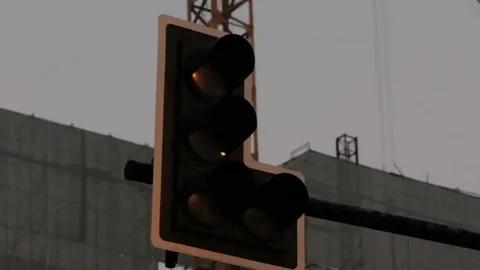off traffic light: (160, 24, 307, 269)
